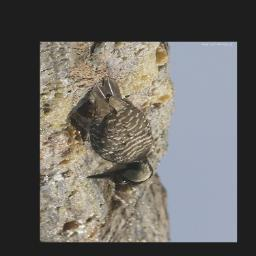Woodpecker: (68, 74, 154, 188)
